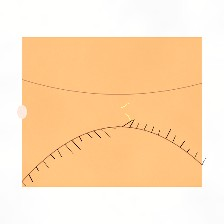corneal_ulcer: (90, 91, 148, 136)
